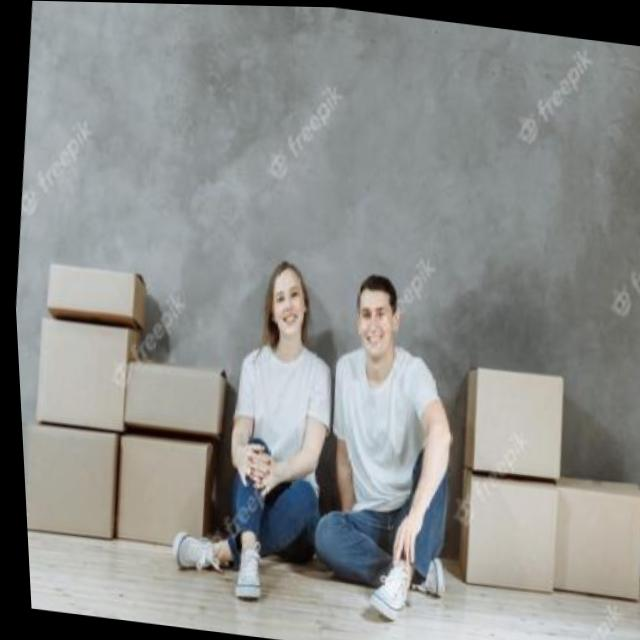box: (437, 463, 569, 611), (532, 455, 640, 620), (446, 351, 575, 484), (17, 415, 127, 558), (102, 427, 214, 565), (19, 310, 133, 438), (111, 348, 233, 448), (36, 252, 154, 330)
